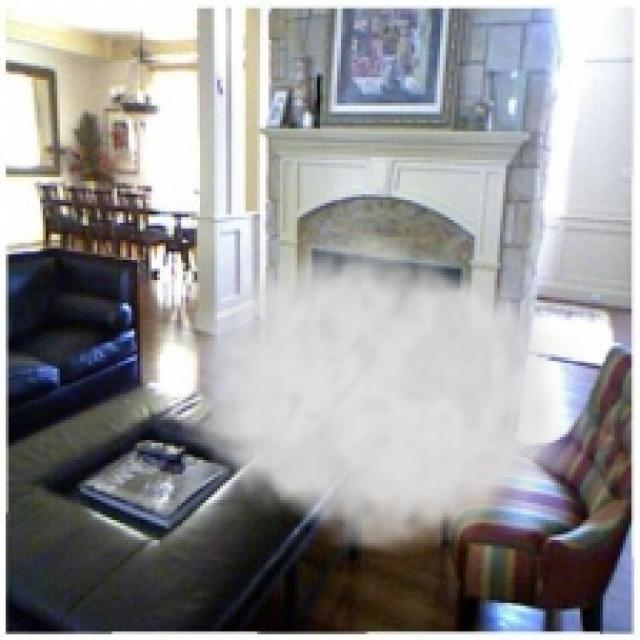smoke: (177, 217, 583, 563)
